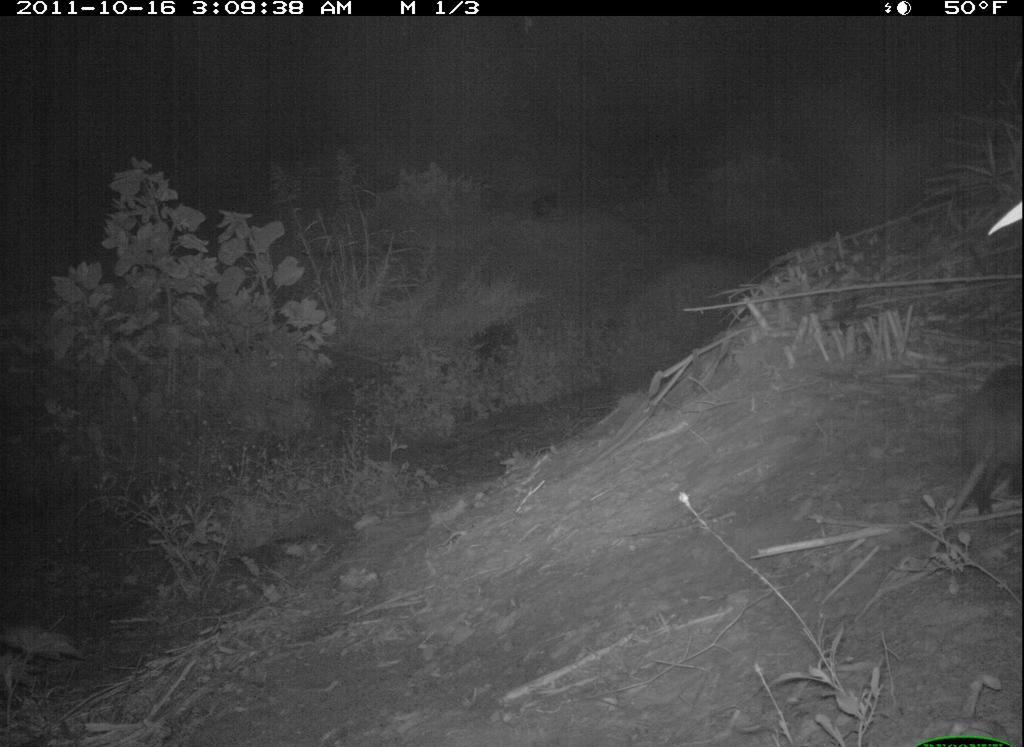opossum: (927, 355, 1023, 552)
